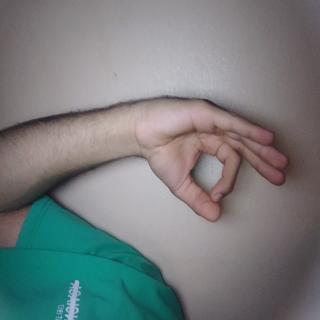Space: (61, 33, 171, 265)
